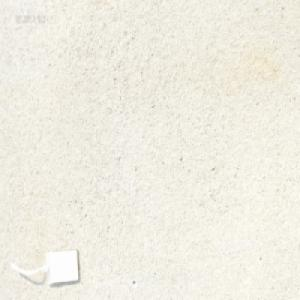LuggageTag: (18, 243, 80, 286)
